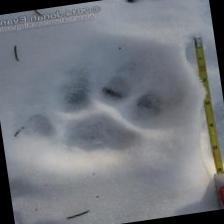puma: (16, 46, 186, 171)
